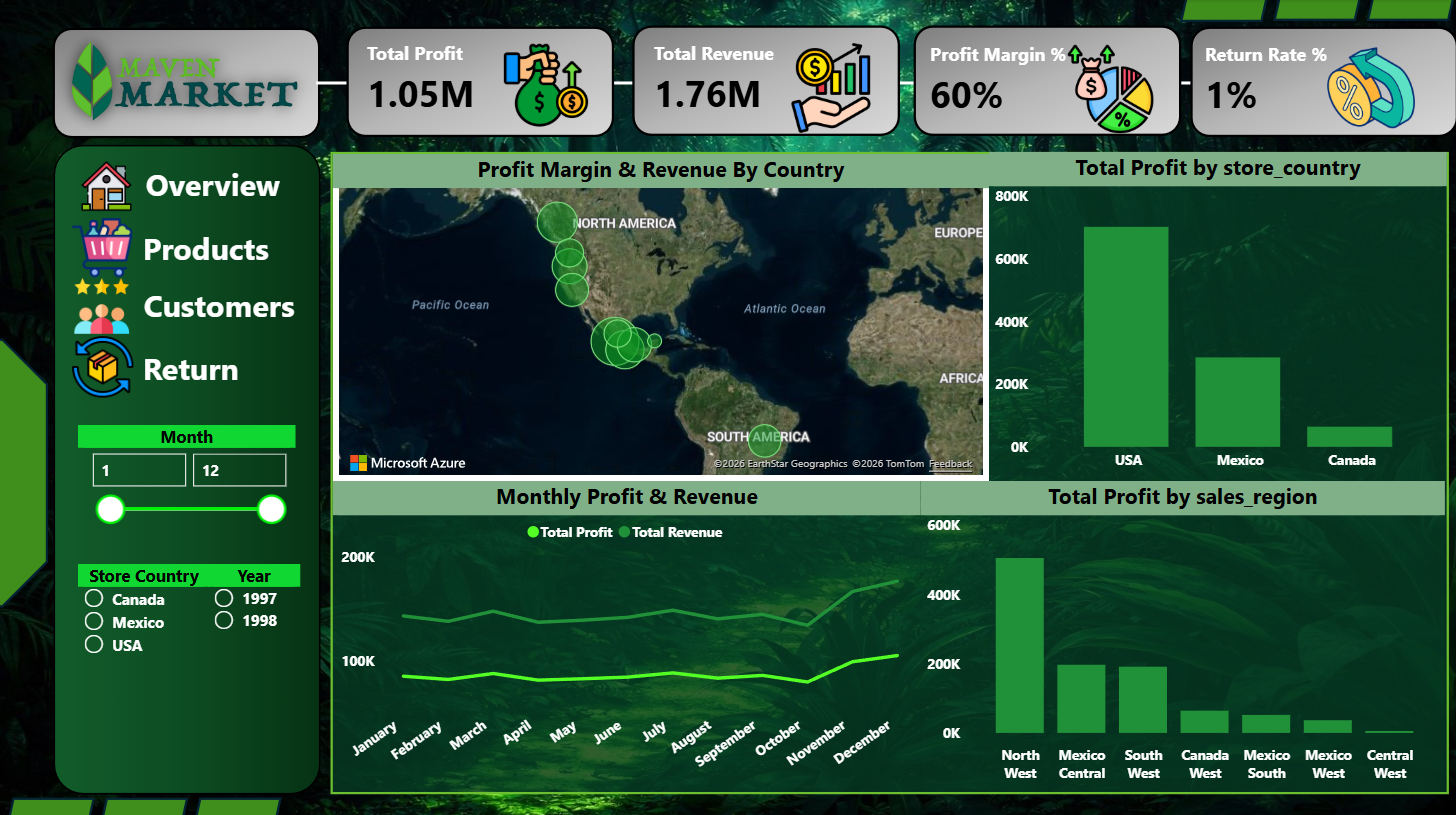

The page's visual inventory and layout, read from the dashboard file:
{"tool":"powerbi","page":{"name":" Executive Overview","canvas":[1280,720],"ordinal":0},"visuals":[{"type":"group","id":"g1","title":"Group 1","box":[69,139,193,53],"z":0},{"type":"image","box":[64.5,191.5,52.5,53.8],"z":0,"group":"g4"},{"type":"image","box":[63.2,245.2,53.8,48.8],"z":0,"group":"g2"},{"type":"image","box":[64.5,295.2,53.8,56.2],"z":0,"group":"g3"},{"type":"actionButton","box":[68,142,196,44],"z":1000},{"type":"image","box":[69,142.1,50,43.8],"z":1000,"group":"g1"},{"type":"textbox","box":[122,245.2,148.8,50],"z":1000,"group":"g2"},{"type":"textbox","box":[122,300.2,106.2,51.2],"z":1000,"group":"g3"},{"type":"textbox","box":[123.1,139,138.8,52.5],"z":2000,"group":"g1"},{"type":"group","id":"g2","title":"Group 3","box":[63.2,245.2,207.5,50],"z":2000},{"type":"textbox","box":[121.7,194.9,133.8,48.8],"z":2003,"group":"g4"},{"type":"actionButton","box":[58,246,209,50],"z":3000},{"type":"group","id":"g3","title":"Group 4","box":[64.5,295.2,163.8,56.2],"z":4000},{"type":"actionButton","box":[58,296,209,57],"z":5000},{"type":"group","id":"g4","title":"Group 2","box":[64.5,191.5,191.2,53.8],"z":6000},{"type":"actionButton","box":[65,191,196,53],"z":7000},{"type":"azureMap","title":"Profit Margin & Revenue By Country","fields":{"Size":["KPIs.Profit Margin %"],"Category":["Stores.store_state"]},"box":[293.3,136.1,576,287.1],"z":8000},{"type":"cardVisual","fields":{"Data":["KPIs.Total Revenue"]},"box":[546.4,3.6,252.9,131.4],"z":9000,"group":"g6"},{"type":"cardVisual","fields":{"Data":["select","KPIs.Profit Margin %"]},"box":[788.6,4.3,240,131.4],"z":9000,"group":"g7"},{"type":"lineChart","title":"Monthly Profit & Revenue","fields":{"Y":["KPIs.Total Profit","KPIs.Total Revenue"],"Category":["Calendar.Month Name"]},"box":[293.3,423.2,516.3,272.2],"z":9000},{"type":"group","id":"g5","title":"Group 6","box":[294.5,3.6,251.4,131.4],"z":10000},{"type":"cardVisual","fields":{"Data":["KPIs.Total Profit"]},"box":[294.5,3.6,251.4,131.4],"z":10000,"group":"g5"},{"type":"cardVisual","fields":{"Data":["KPIs.Return Rate %"]},"box":[1030,4.3,240,131.4],"z":10000,"group":"g8"},{"type":"group","id":"g6","title":"Group 5","box":[546.4,3.6,252.7,130.9],"z":11000},{"type":"group","id":"g7","title":"Group 7","box":[788.6,4.3,240,131.4],"z":12000},{"type":"image","box":[677.4,38.9,107.1,78.6],"z":12001,"group":"g6"},{"type":"image","box":[437,39,86,74],"z":13000},{"type":"image","box":[933,39,86,79],"z":13000,"group":"g7"},{"type":"image","box":[1150,39,109,77],"z":13002,"group":"g8"},{"type":"group","id":"g8","title":"Group 8","box":[1030,4.3,240,131.4],"z":14000},{"type":"group","id":"g9","title":"Group 9","box":[69.1,495.4,115.5,161.8],"z":14000,"group":"g10"},{"type":"clusteredColumnChart","fields":{"Category":["Stores.store_country"],"Y":["KPIs.Total Profit"]},"box":[869.3,134.3,402.1,288.9],"z":15000},{"type":"slicer","title":"Month","fields":{"Values":["Calendar.Month"]},"box":[69.1,373.6,190.9,100],"z":15000,"group":"g10"},{"type":"clusteredColumnChart","fields":{"Y":["KPIs.Total Profit"],"Category":["Regions.sales_region"]},"box":[809.6,423.2,460.1,272.2],"z":16000},{"type":"listSlicer","fields":{"Values":["Calendar.Year"]},"box":[183.6,495.4,80.9,159.1],"z":17001,"group":"g10"},{"type":"group","id":"g10","title":"Group 10","box":[69.1,373.6,195.5,283.6],"z":17002},{"type":"listSlicer","title":"Store Country","fields":{"Values":["Stores.store_country"]},"box":[69.1,495.4,115.8,161.9],"z":19000,"group":"g9"}]}

Visuals, with their boxes in screenshot pixels (x1, y1, x2, y2), scaled from the page's 1280x720 canvas onto the 1456x815 screenshot:
"Group 1" group: 78, 157, 298, 217
image: 73, 217, 133, 278
image: 72, 278, 133, 333
image: 73, 334, 135, 398
actionButton: 77, 161, 300, 211
image: 78, 161, 135, 210
textbox: 139, 278, 308, 334
textbox: 139, 340, 260, 398
textbox: 140, 157, 298, 217
"Group 3" group: 72, 278, 308, 334
textbox: 138, 221, 291, 276
actionButton: 66, 278, 304, 335
"Group 4" group: 73, 334, 260, 398
actionButton: 66, 335, 304, 400
"Group 2" group: 73, 217, 291, 278
actionButton: 74, 216, 297, 276
"Profit Margin & Revenue By Country" azureMap: 334, 154, 989, 479
cardVisual - KPIs.Total Revenue: 622, 4, 909, 153
cardVisual - select x KPIs.Profit Margin %: 897, 5, 1170, 154
"Monthly Profit & Revenue" lineChart: 334, 479, 921, 787
"Group 6" group: 335, 4, 621, 153
cardVisual - KPIs.Total Profit: 335, 4, 621, 153
cardVisual - KPIs.Return Rate %: 1172, 5, 1445, 154
"Group 5" group: 622, 4, 909, 152
"Group 7" group: 897, 5, 1170, 154
image: 771, 44, 892, 133
image: 497, 44, 595, 128
image: 1061, 44, 1159, 134
image: 1308, 44, 1432, 131
"Group 8" group: 1172, 5, 1445, 154
"Group 9" group: 79, 561, 210, 744
clusteredColumnChart - Stores.store_country x KPIs.Total Profit: 989, 152, 1446, 479
"Month" slicer: 79, 423, 296, 536
clusteredColumnChart - KPIs.Total Profit x Regions.sales_region: 921, 479, 1444, 787
listSlicer - Calendar.Year: 209, 561, 301, 741
"Group 10" group: 79, 423, 301, 744
"Store Country" listSlicer: 79, 561, 210, 744
